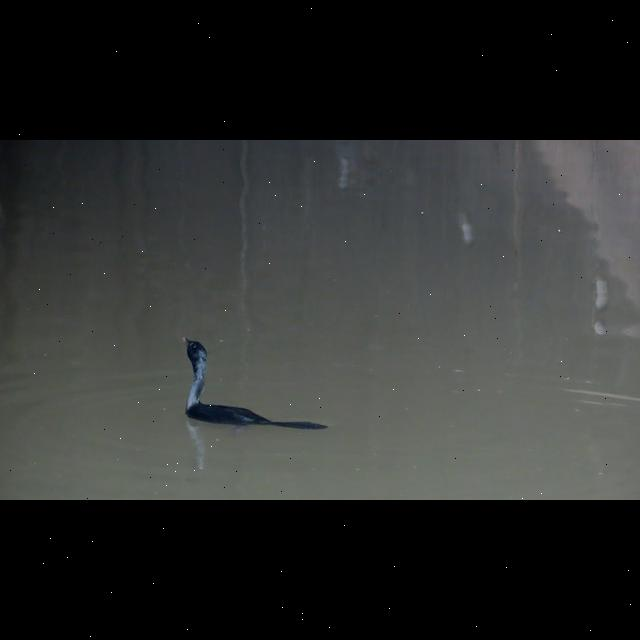cormorant: (180, 334, 330, 436)
